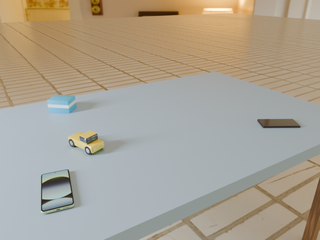box: (47, 95, 76, 113)
phone: (41, 170, 74, 214), (257, 119, 300, 128)
toy_car: (68, 131, 104, 155)
